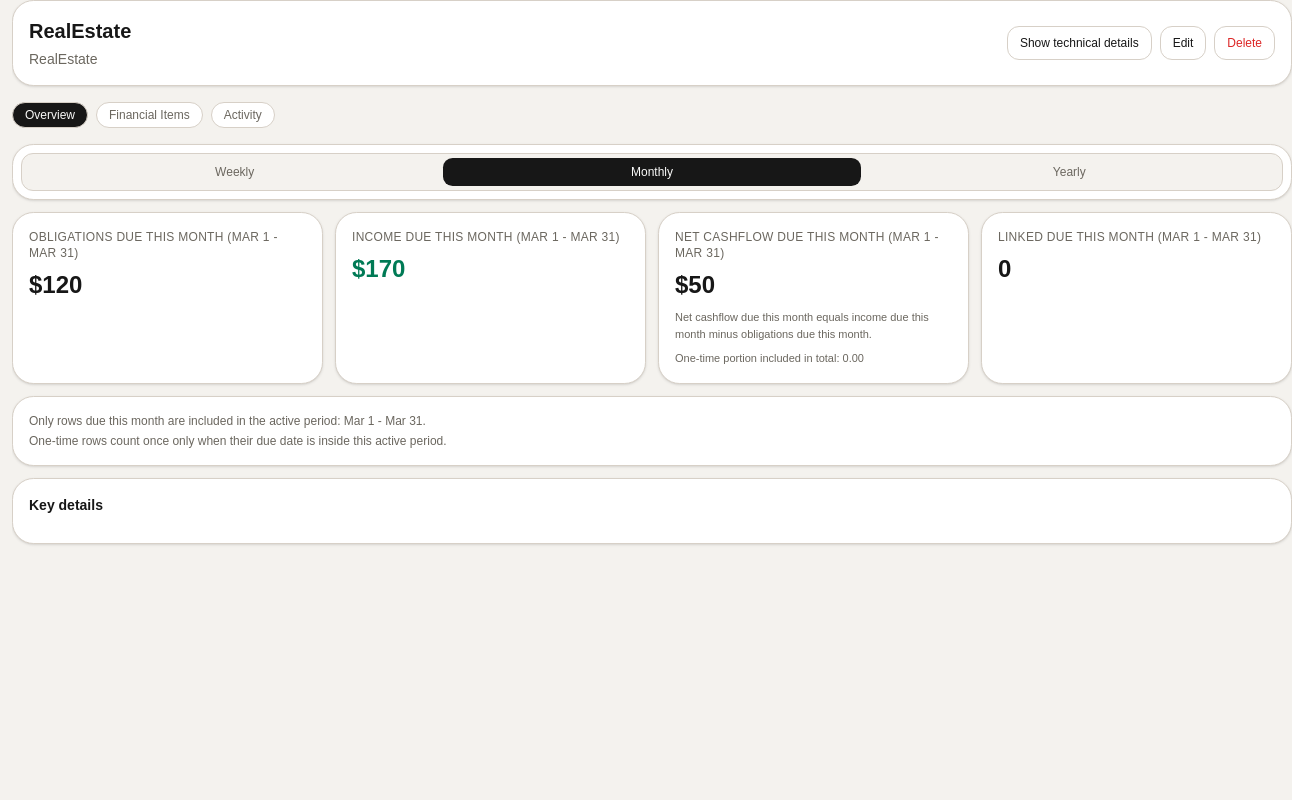
item detail events panel › keeps cadence labels, period hints, and totals synchronized from active-period metadata when switching cadence
expect the text "Obligations due this month (Mar 1 - Mar 31)" is shown: met, box [29,229,306,261]
expect the text "Linked due this month (Mar 1 - Mar 31)" is shown: met, box [998,229,1275,245]
Click the button with aria-label "Selected cadence: Weekly".
click(235, 172)  # box [26,158,443,186]
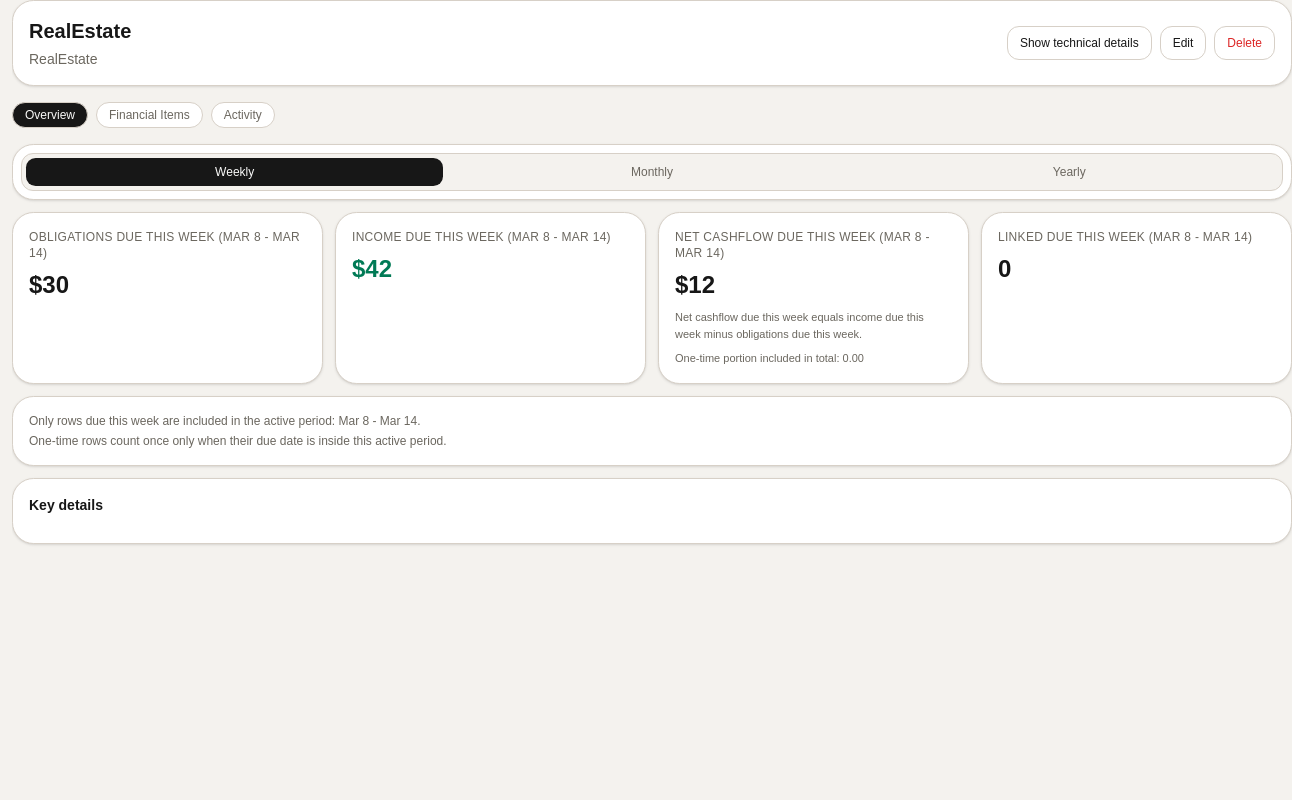
expect the text "Obligations due this week (Mar 8 - Mar 14)" is shown: met, box [29,229,306,261]
expect the text "Income due this week (Mar 8 - Mar 14)" is shown: met, box [352,229,629,245]
expect the text "Net cashflow due this week (Mar 8 - Mar 14)" is shown: met, box [675,229,952,261]
Click the button with aria-label "Selected cadence: Yearly".
click(1069, 172)  # box [861,158,1278,186]
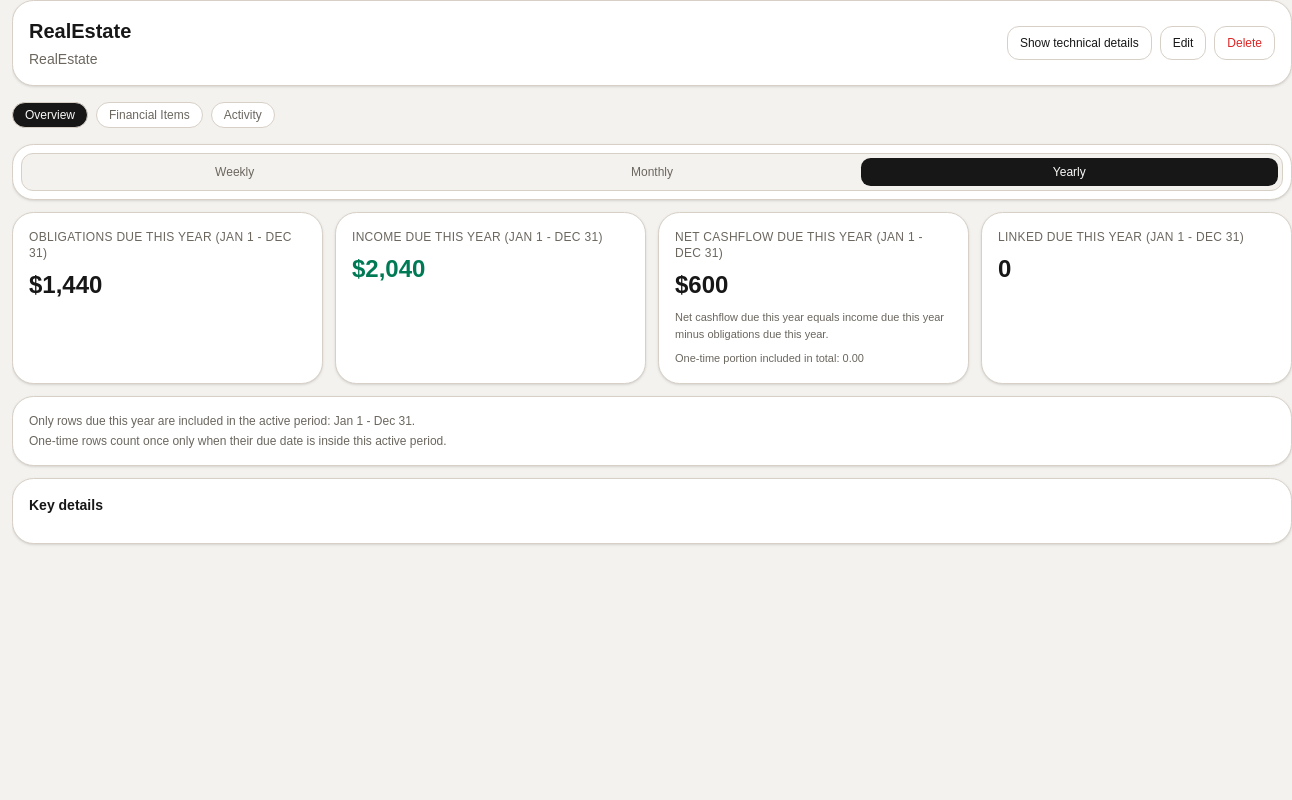
expect the text "Obligations due this year (Jan 1 - Dec 31)" is shown: met, box [29,229,306,261]
expect the text "Income due this year (Jan 1 - Dec 31)" is shown: met, box [352,229,629,245]
expect the text "Net cashflow due this year (Jan 1 - Dec 31)" is shown: met, box [675,229,952,261]
